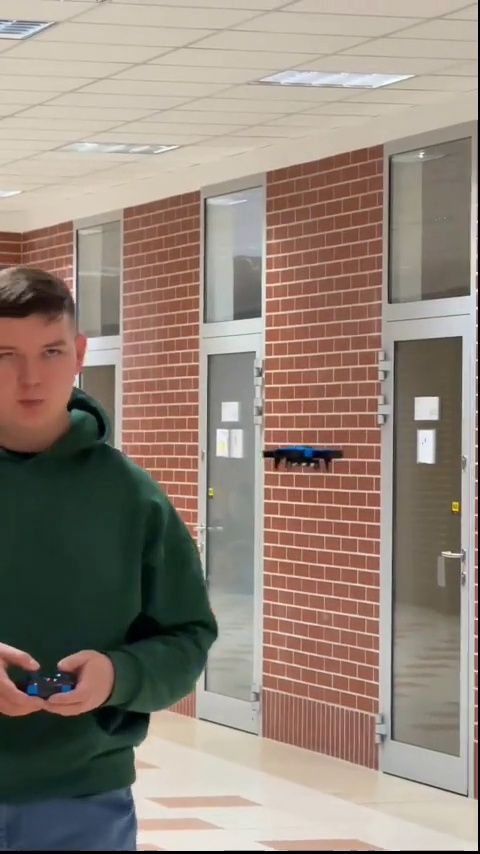drone: (265, 445, 348, 473)
no vest: (0, 259, 229, 854)
